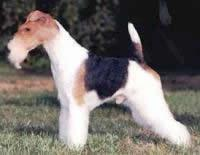wire-haired_fox_terrier: (5, 7, 193, 152)
